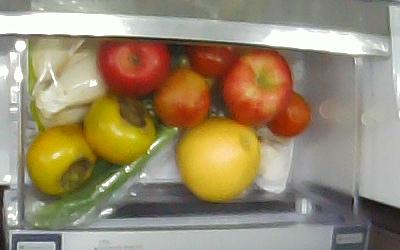apple: (221, 49, 293, 124), (97, 37, 172, 96)
grapefruit: (174, 117, 260, 201)
persimmon: (83, 94, 156, 163), (25, 125, 95, 195)
prune: (155, 68, 210, 126), (267, 89, 309, 137), (186, 44, 242, 79)
